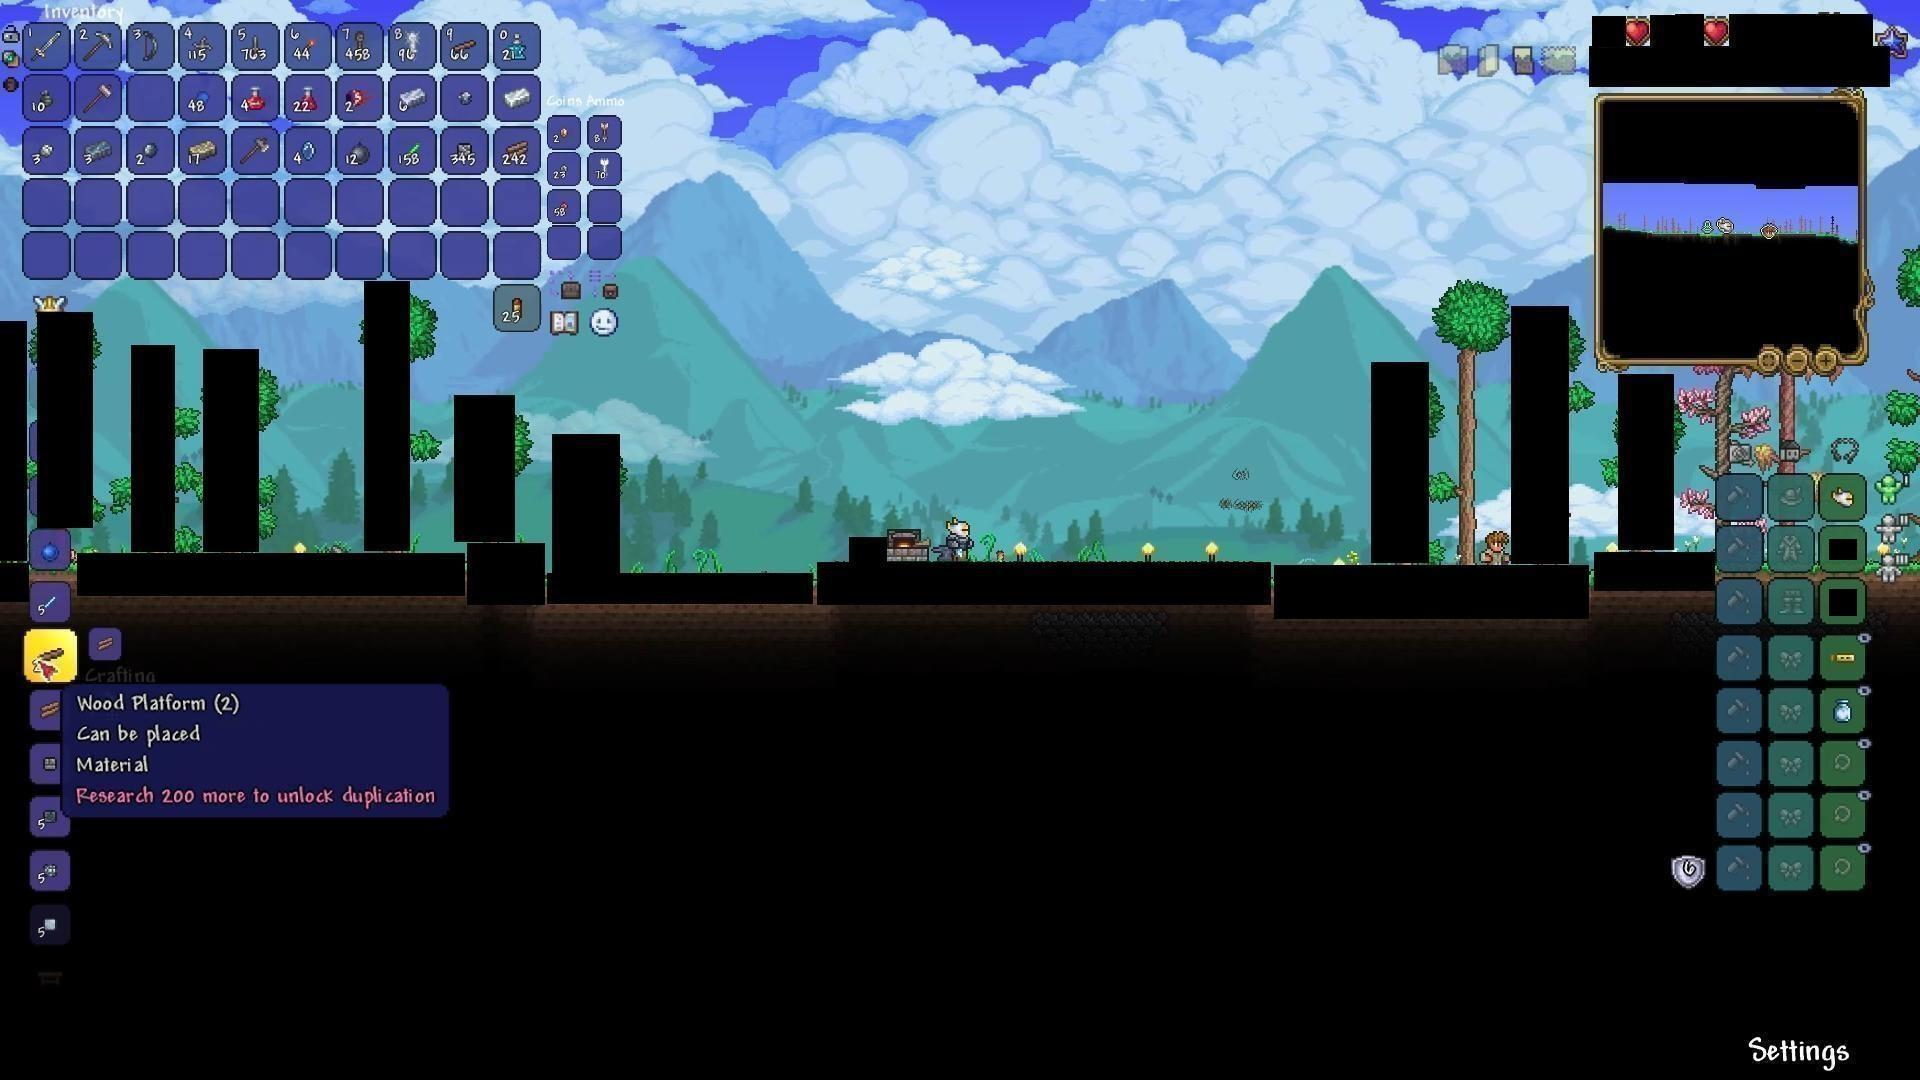heart: (1702, 17, 1733, 51), (1625, 15, 1651, 44)
tree: (1429, 277, 1502, 562)
wood: (500, 138, 530, 167), (90, 632, 117, 658), (36, 698, 61, 720)
